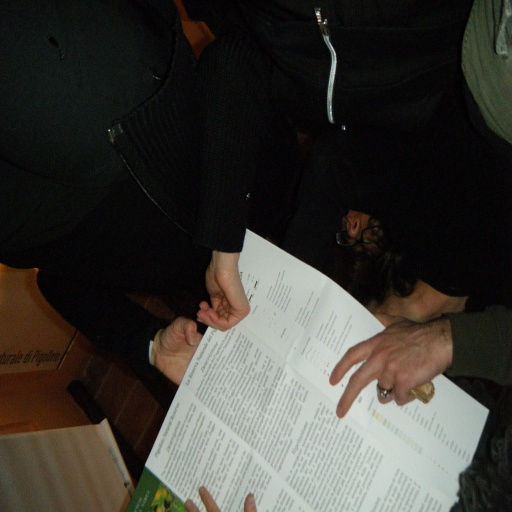hand: (329, 320, 450, 418), (196, 256, 251, 334), (153, 314, 204, 386), (372, 295, 467, 326), (183, 483, 257, 511)
